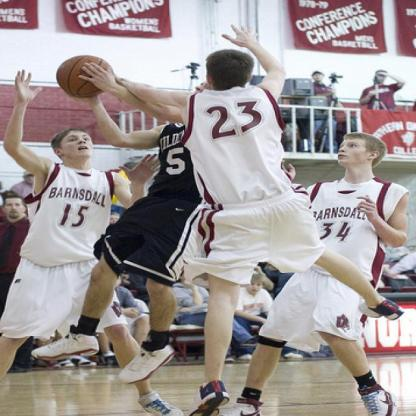basketball: (56, 55, 113, 101)
